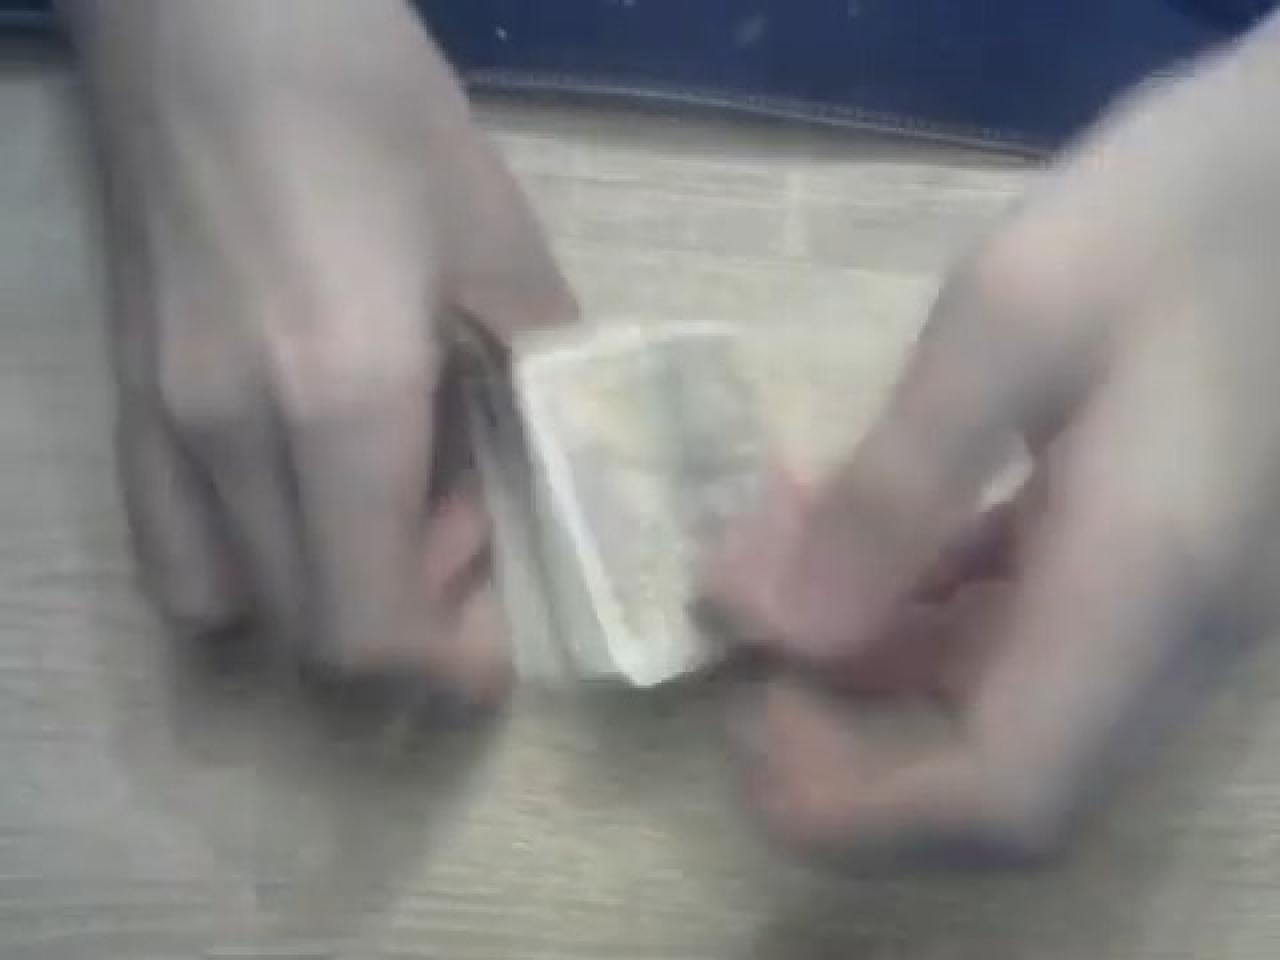10leva: (509, 320, 779, 691)
